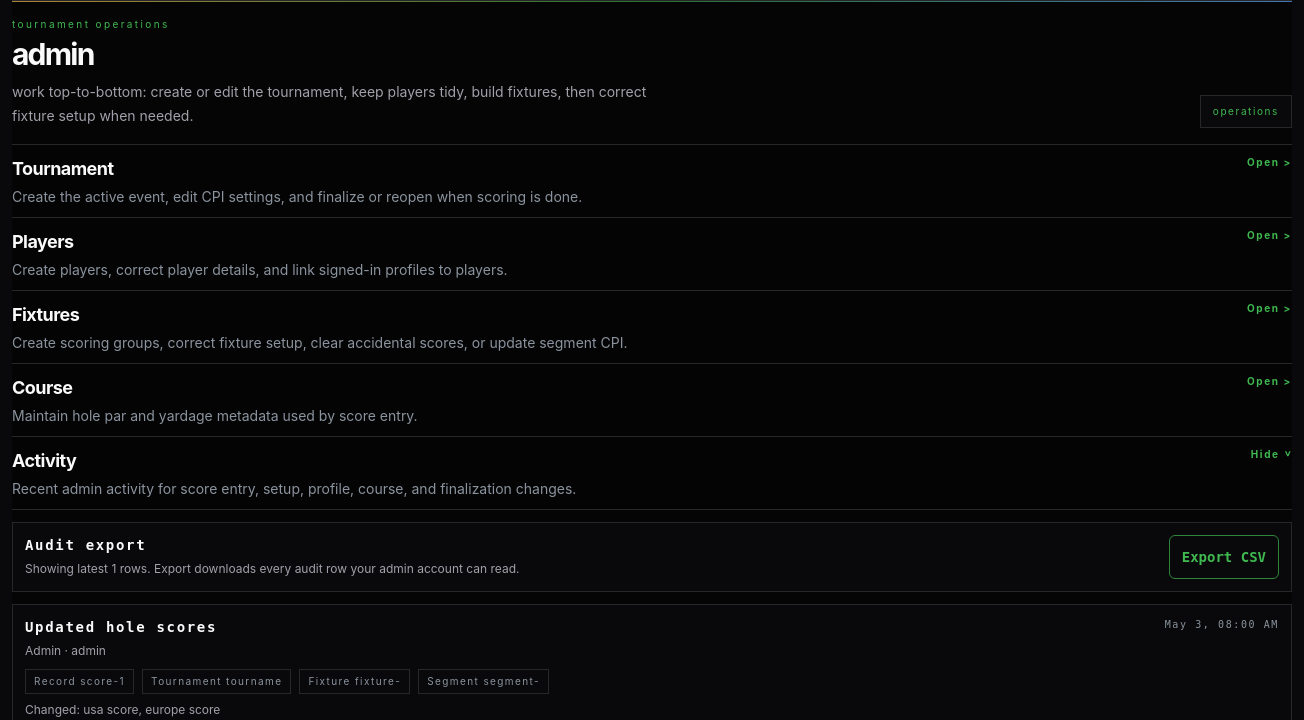
Test case: 2026 admin setup panel › exports the full audit log from the admin Activity task
The width and height of the screenshot is (1304, 720).
What coordinates should you click on to do the following:
click the button "Export CSV"
I would click on:
 (1224, 557)
Its box is left=1169, top=535, right=1279, bottom=579.
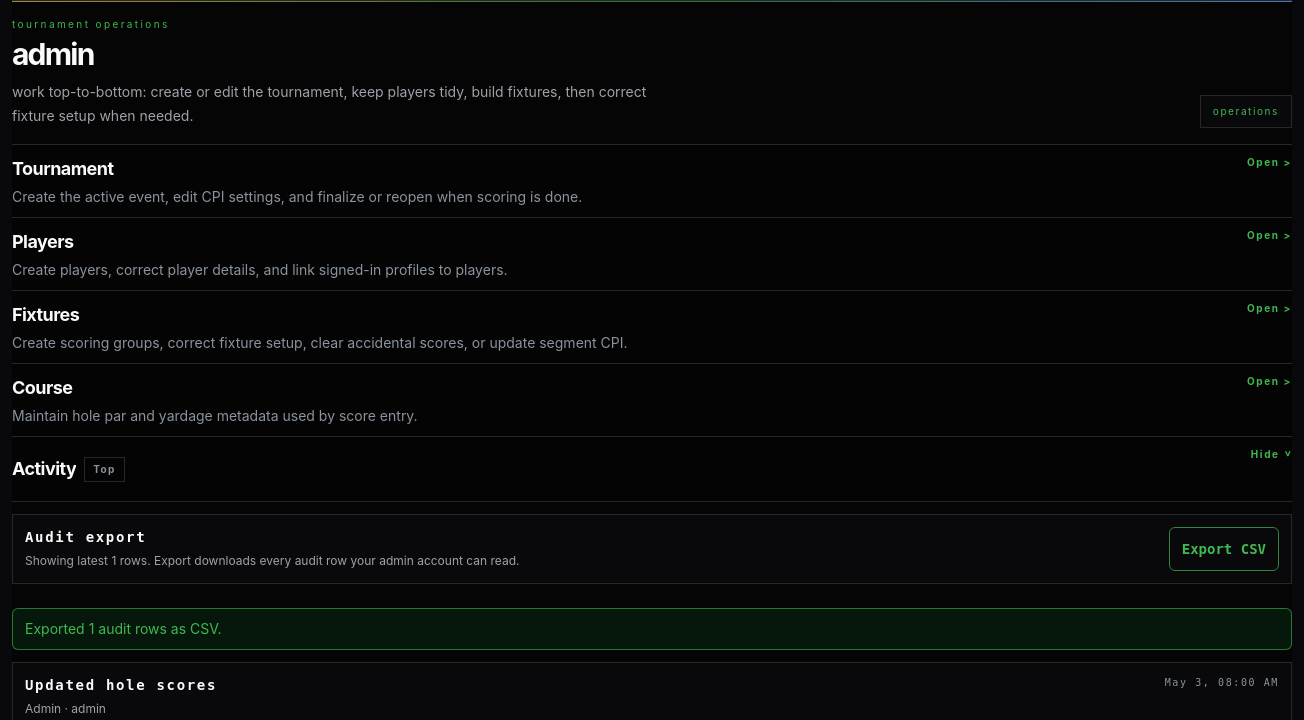
Expected: the text "Exported 1 audit rows as CSV." is shown, left=12, top=608, right=1292, bottom=650
